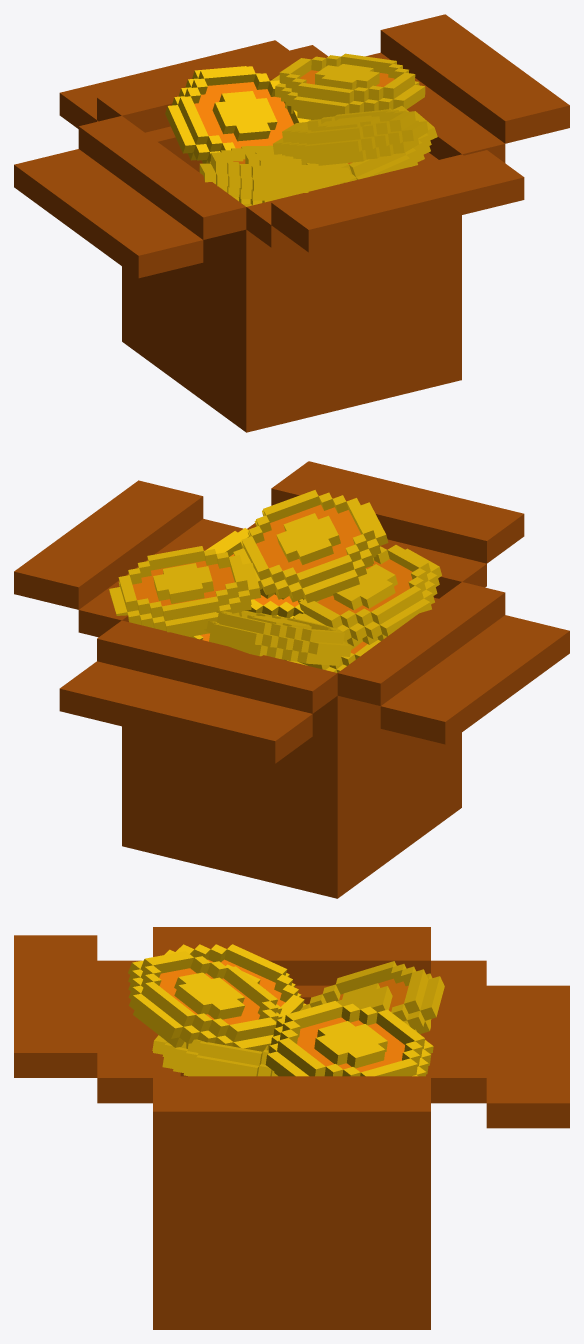
File: Box of Coins.fbx
3 renders of one model, top to bottom at view 1: azimuth 30°, elevation 25°; view 2: azimuth 150°, elevation 25°; view 3: azimuth 270°, elevation 25°, orthographic. The views are drawn at different scales.
Visible parts, largest first — view 1: Untitled; view 2: Untitled; view 3: Untitled.
Part boxes in pixels (x1,y1,x2,y2): Untitled: (14, 14, 569, 432); Untitled: (14, 461, 569, 898); Untitled: (14, 927, 569, 1329).
Size of the model in its own units: 450 by 280 by 450.
